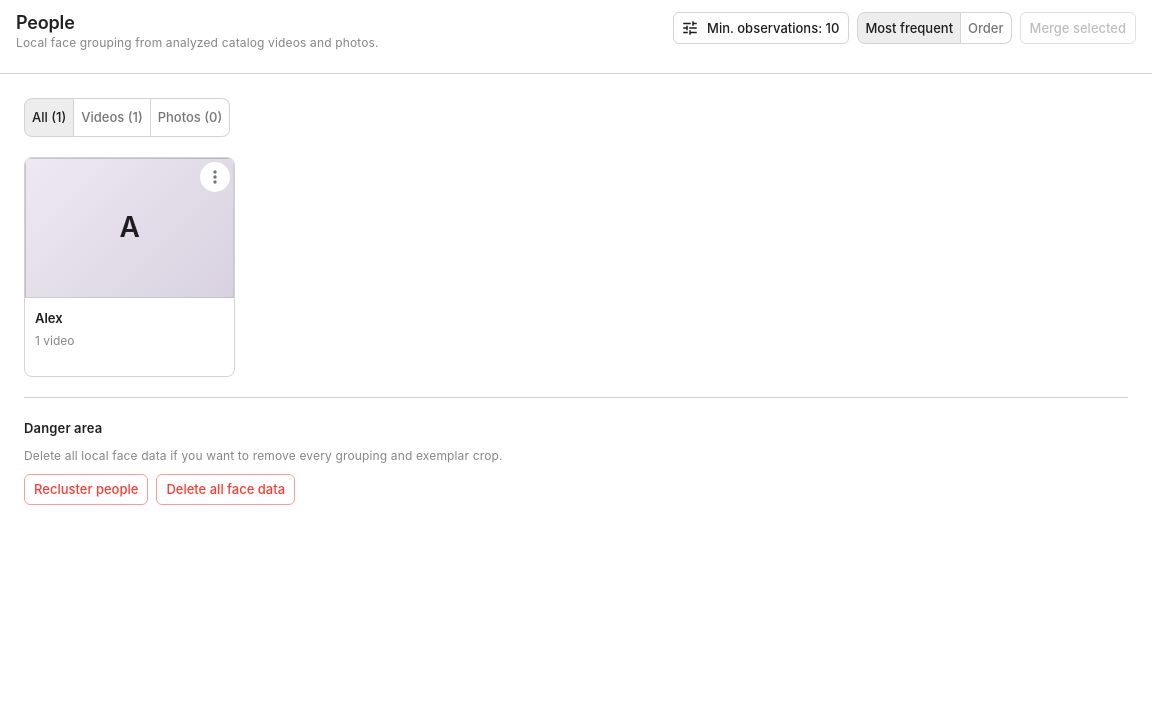
Test: PeopleView › surfaces a purge mutation failure via a visible alert instead of only the terminal
The width and height of the screenshot is (1152, 720).
Expected: the element with test id "people-grid" is shown, [24,157,235,377]
Click the button with test id "people-purge" at (226, 490), box [156,474,295,505]
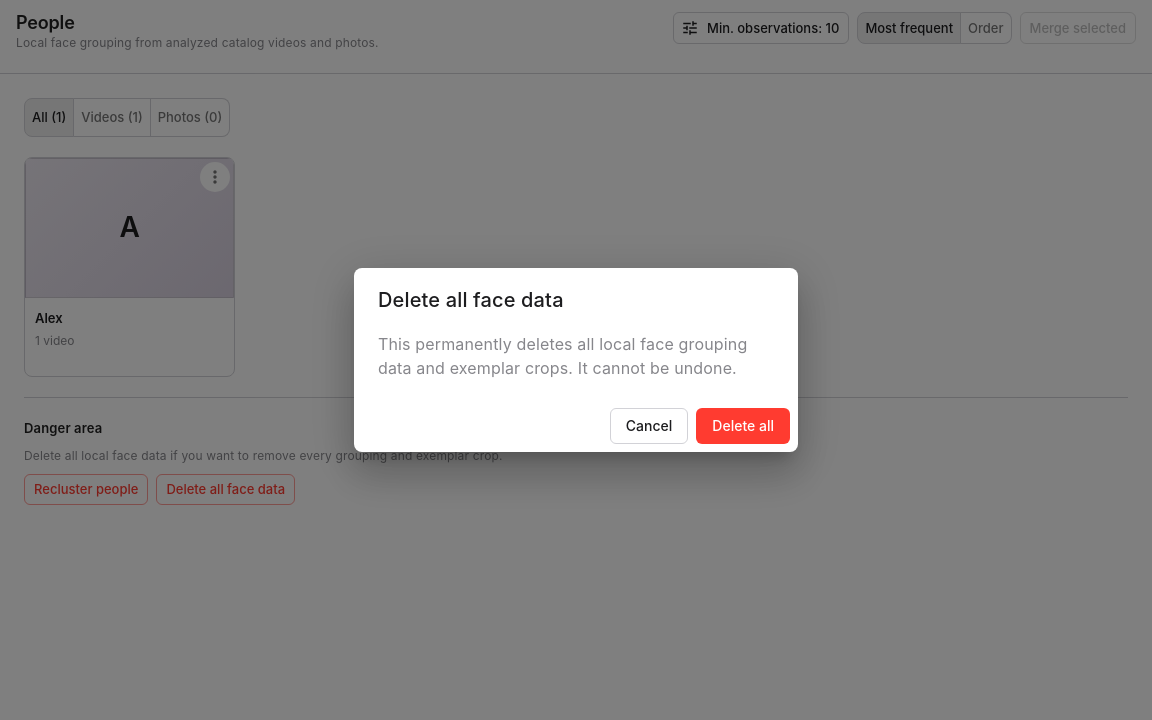
Click the button with test id "people-purge-confirm" at (743, 426), box [696,408,790,444]
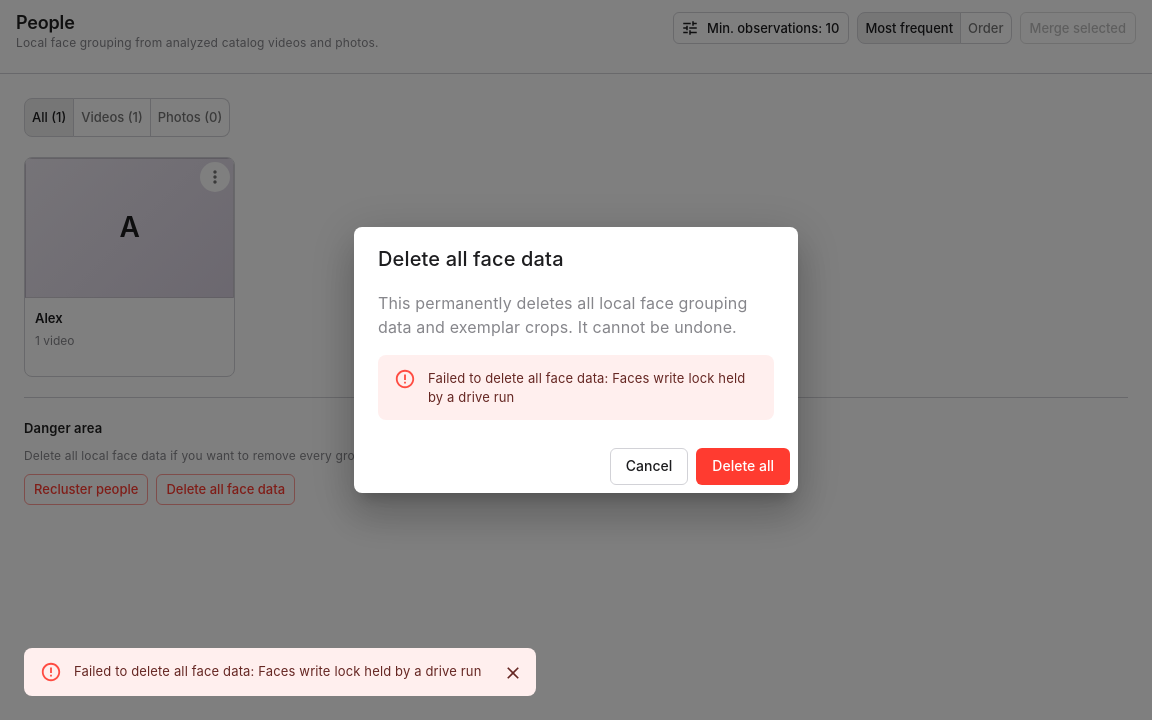
Expected: the element with test id "people-grid" is shown, [24,157,235,377]
Expected: the message with test id "people-mutation-error" shows "Faces write lock held by a drive run", [74,663,482,679]
